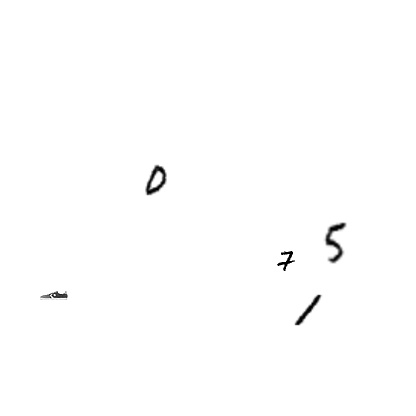0: (135, 159, 177, 201)
1: (286, 289, 328, 331)
5: (306, 213, 362, 269)
7: (272, 245, 300, 273)
Sneaker: (40, 281, 68, 309)
